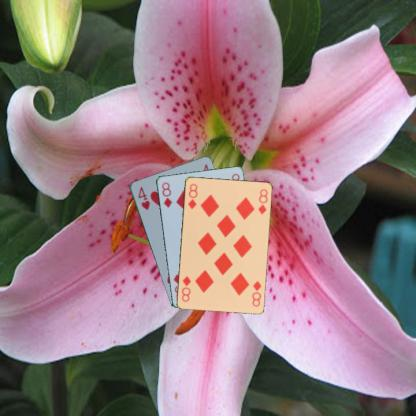4h: (135, 184, 151, 211)
8d: (159, 180, 173, 209), (185, 181, 199, 210), (250, 278, 262, 307)
